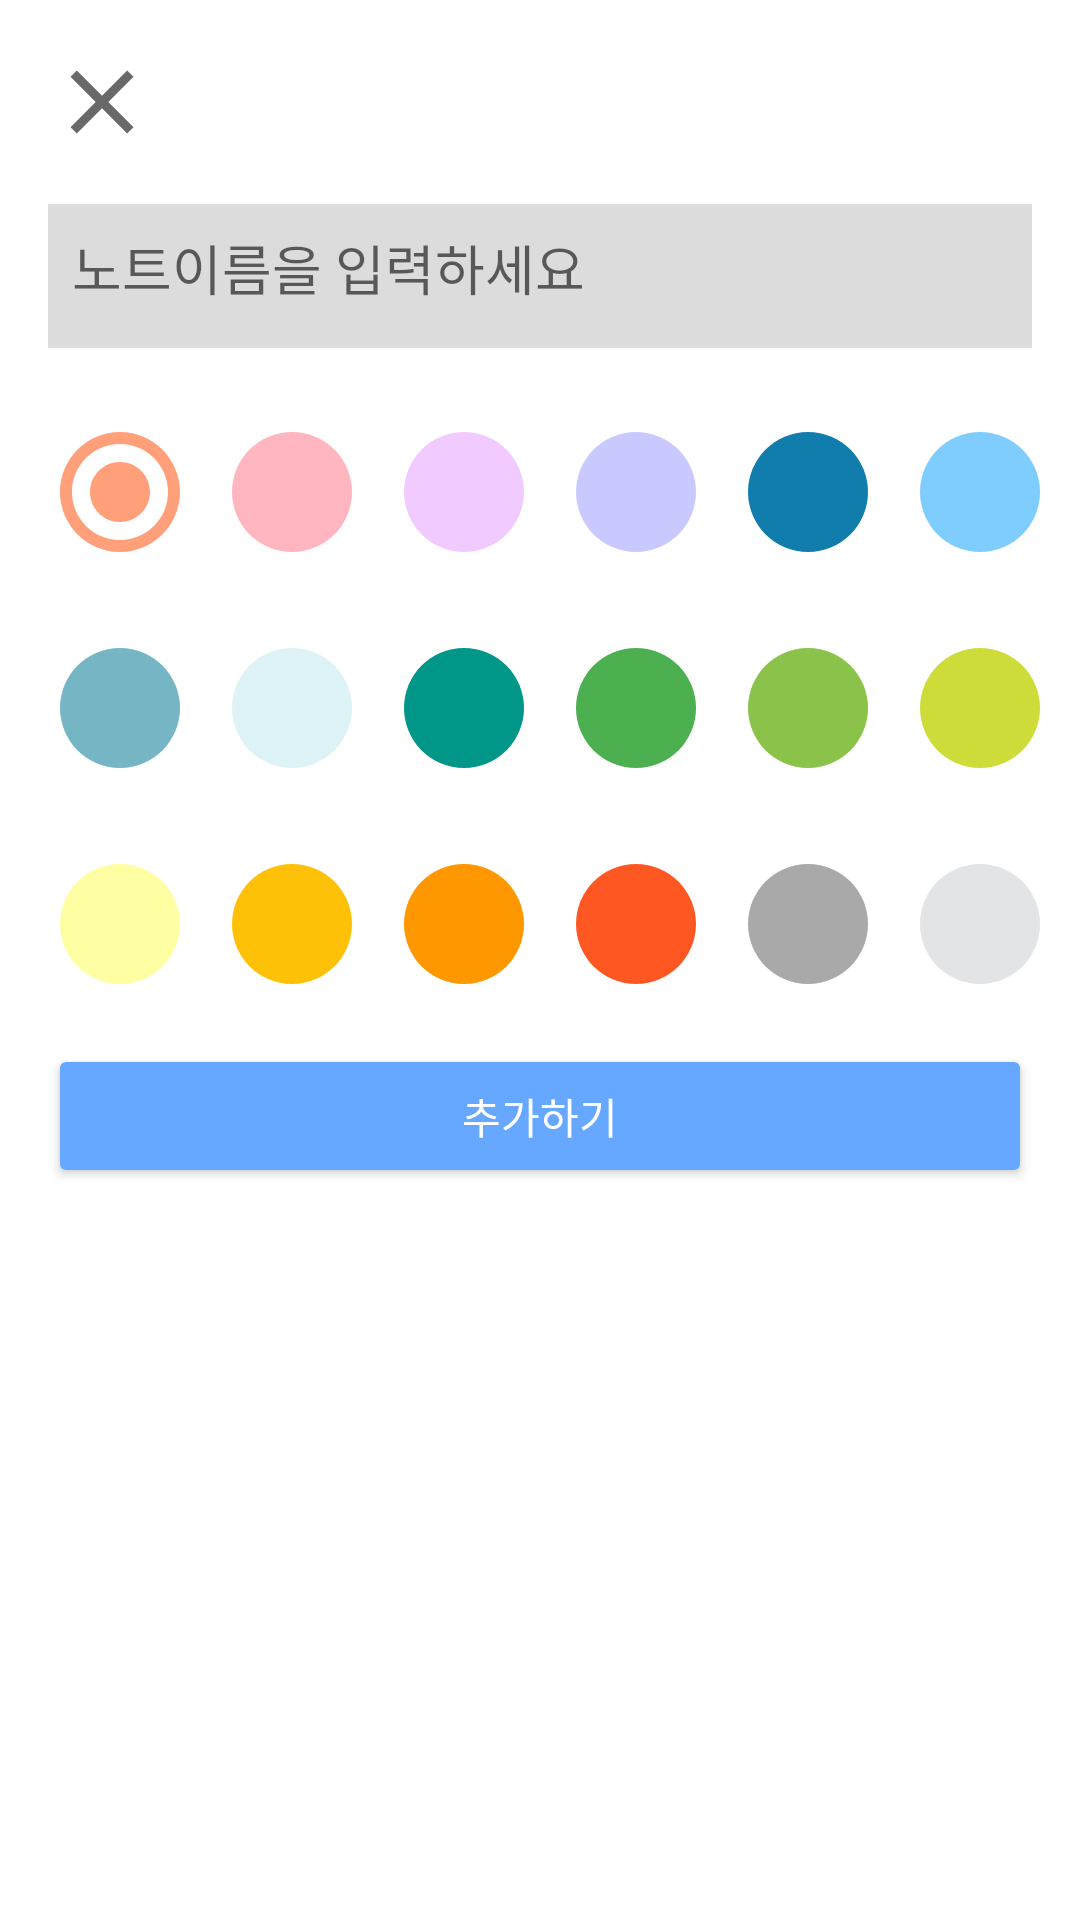

Named icons in this screenshot (1080*1920) and their bounding boxes, box=[x1, y1, x2, y2]:
close: box=[70, 70, 134, 134]
